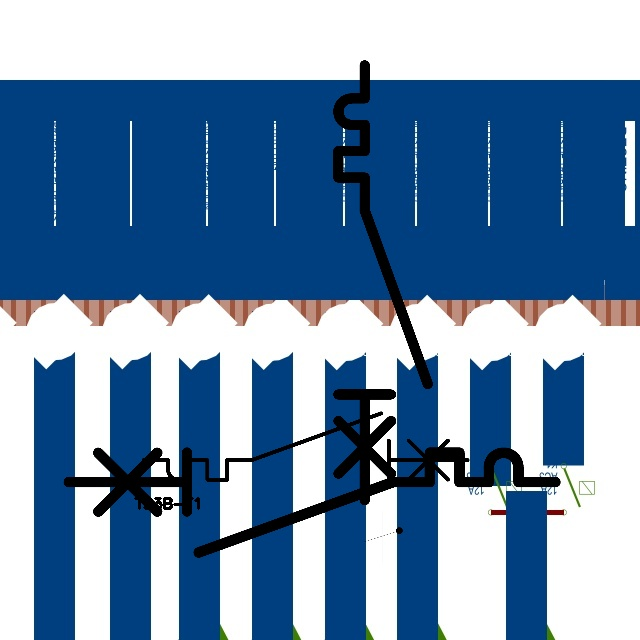interruptor_termomagnetico: (56, 440, 568, 565), (327, 54, 439, 511), (135, 405, 476, 488)
